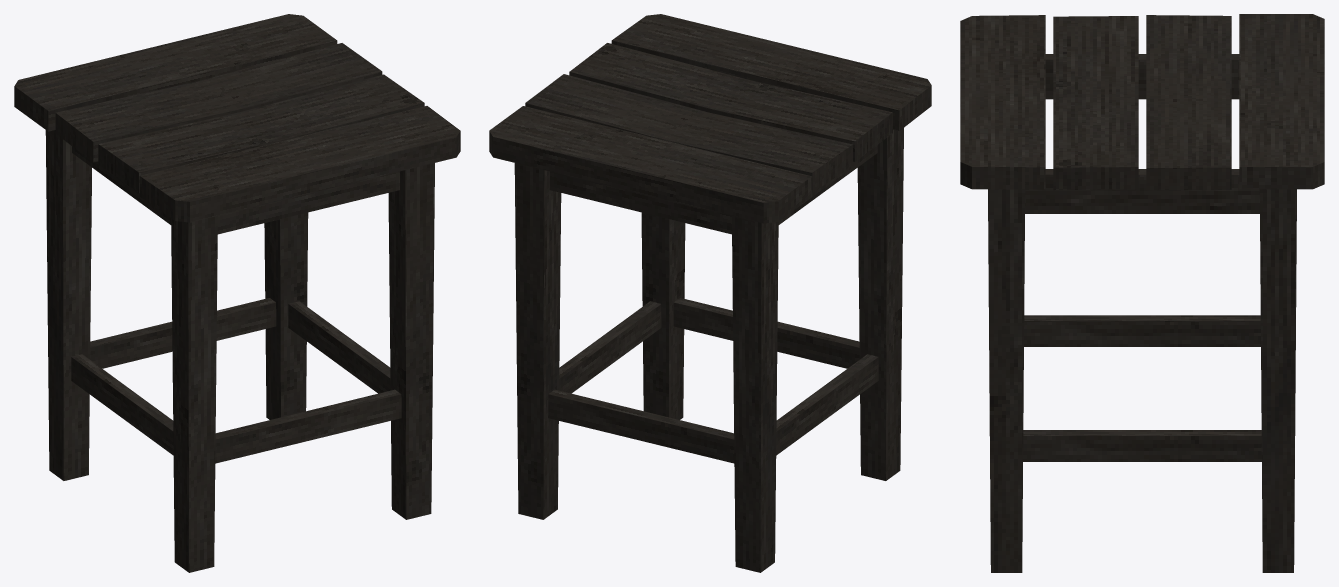
File: chair_mp_1.glb
3 views of the same model, side by side, from view 1: azimuth 30°, elevation 25°; view 2: azimuth 150°, elevation 25°; view 3: azimuth 270°, elevation 25° (orthographic). The views are drawn at different scales.
Parts seen in each view (by area): view 1: chair_mp_1; view 2: chair_mp_1; view 3: chair_mp_1.
Part boxes in pixels (<box>): chair_mp_1: <box>14,14,460,572</box>; chair_mp_1: <box>489,14,931,572</box>; chair_mp_1: <box>960,14,1324,572</box>.
Bounding box in the file's own units: 0.4707 × 0.594 × 0.47.
Materials: 1 (1 with a texture image).
